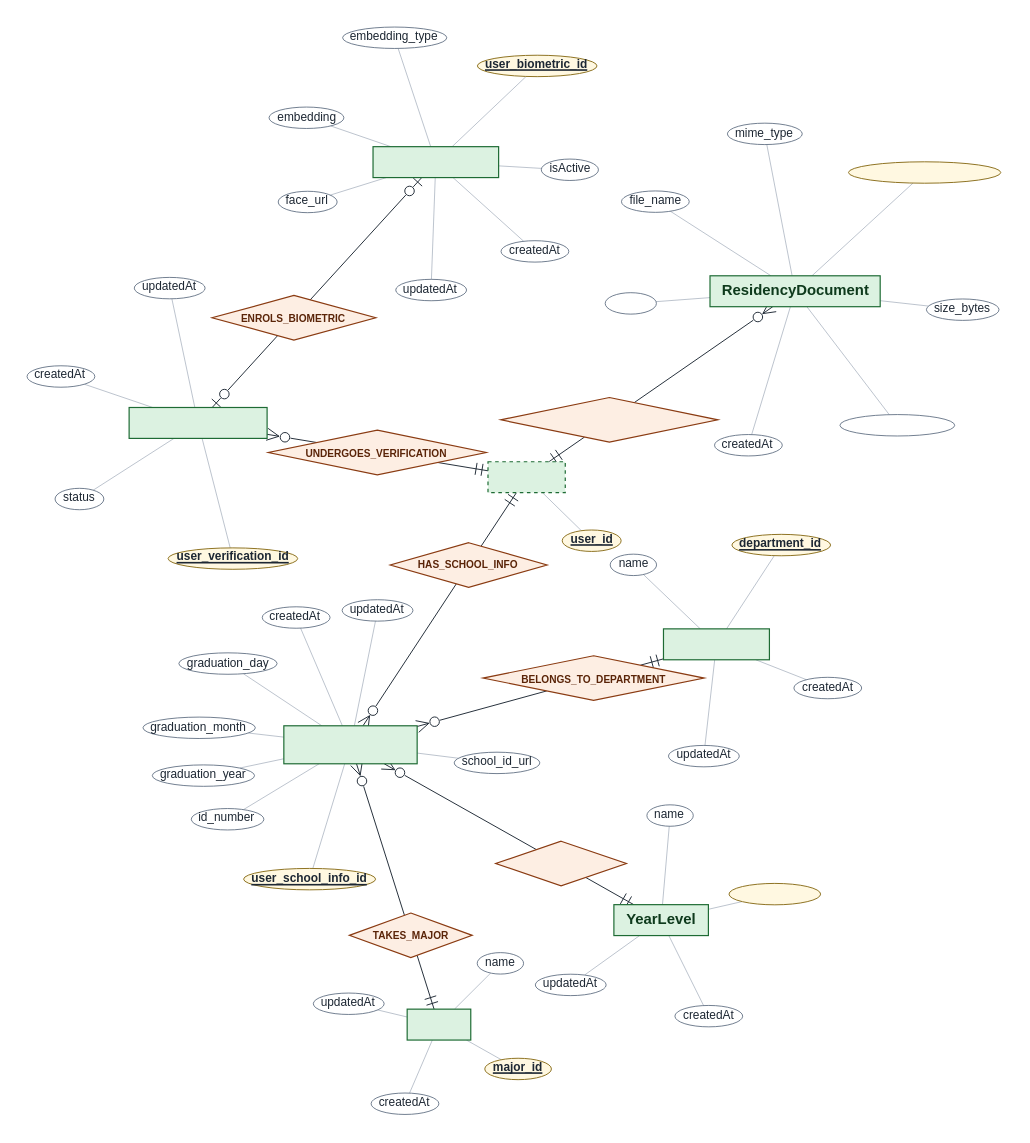
Image size: 1030x1143. Some labels were removed from this diagram. Each missing label, with the centre of its shape:
"Department" belongs at pixel 715 643.
"extracted_address" belongs at pixel 896 424.
"file_url" belongs at pixel 630 303.
"IN_YEAR_LEVEL" belongs at pixel 560 863.
"Major" belongs at pixel 438 1024.
"residency_document_id" belongs at pixel 923 172.
"UPLOADS_RESIDENCY_DOC" belongs at pixel 608 419.
"User" belongs at pixel 526 476.
"UserBiometric" belongs at pixel 435 161.
"UserSchoolInfo" belongs at pixel 349 743.
"UserVerification" belongs at pixel 197 422.
"year_level_id" belongs at pixel 774 893.
